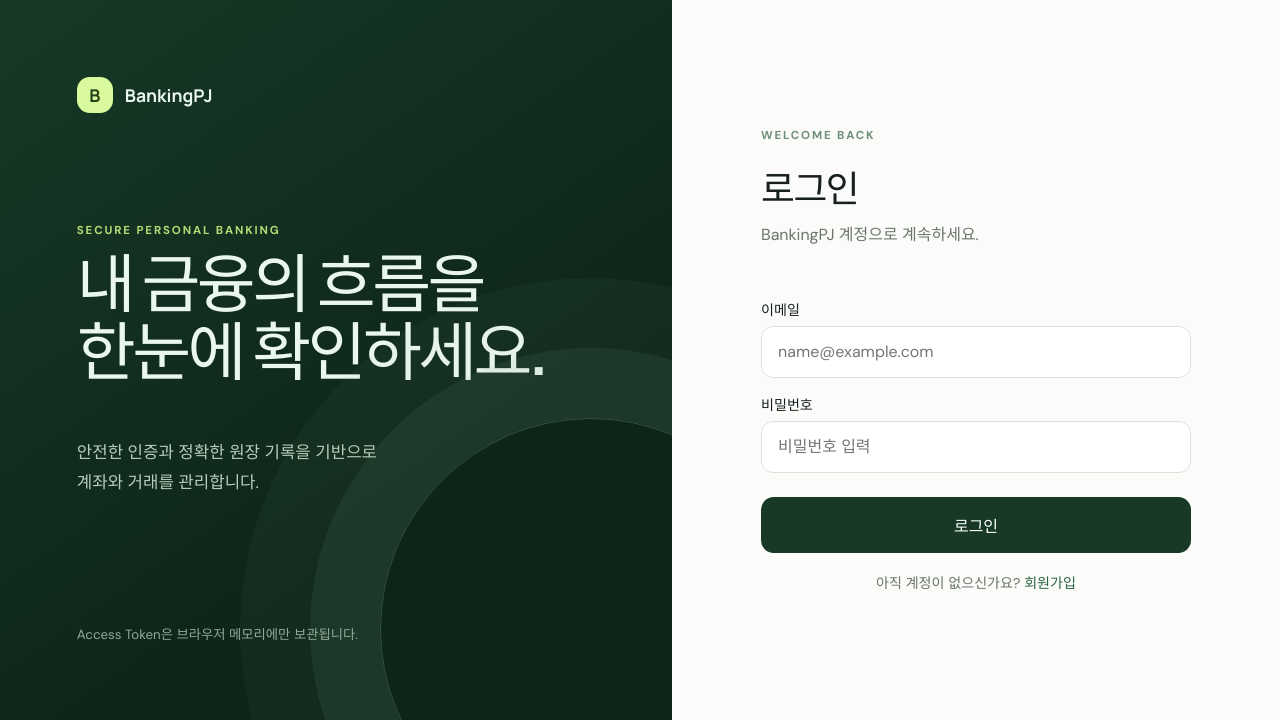
Test: Frontend 로그인 및 인증 흐름 › 로그인 성공 시 Access Token을 메모리에 저장하고 Dashboard로 이동한다
This screenshot has width=1280, height=720.
Expected: the heading "로그인" is shown, 761,162 -> 858,212
Type "user@example.com" into the field labelled "이메일" at (976, 352), box 761,326 -> 1191,378
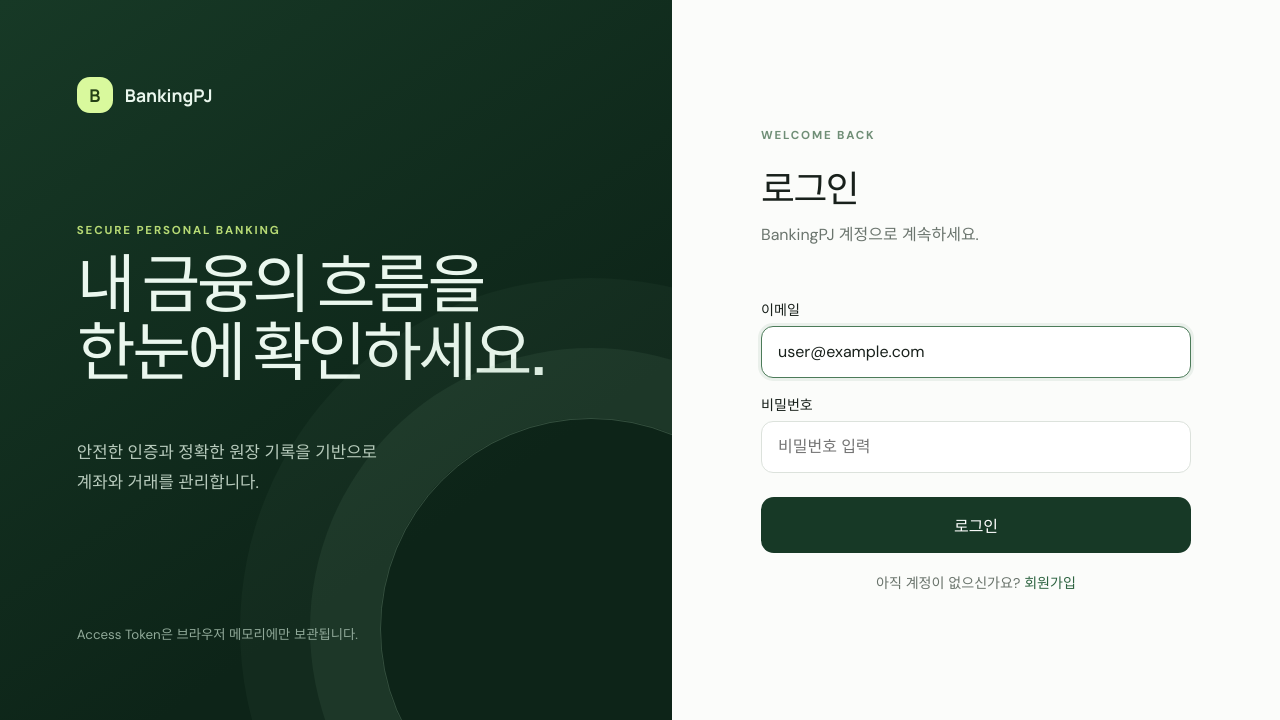
Type "password123!" into the password field labelled "비밀번호" at (976, 447), box 761,421 -> 1191,473
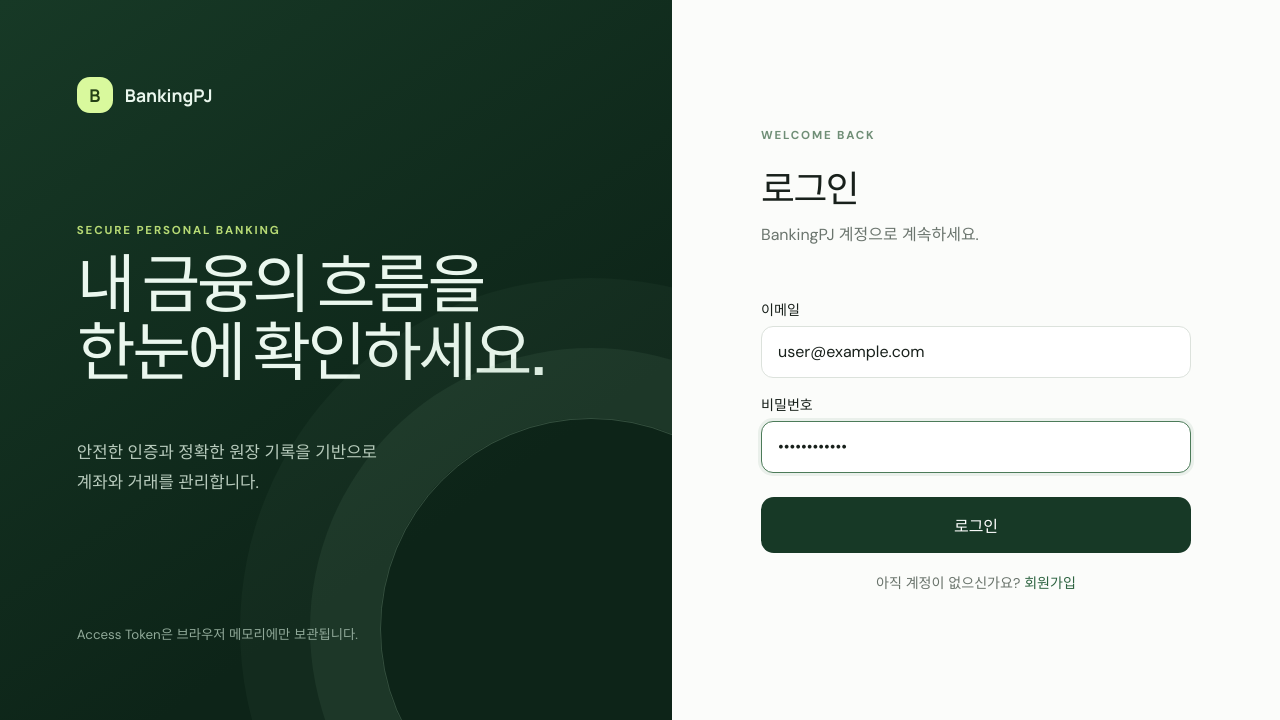
Click the button "로그인" at (976, 525), box 761,497 -> 1191,553
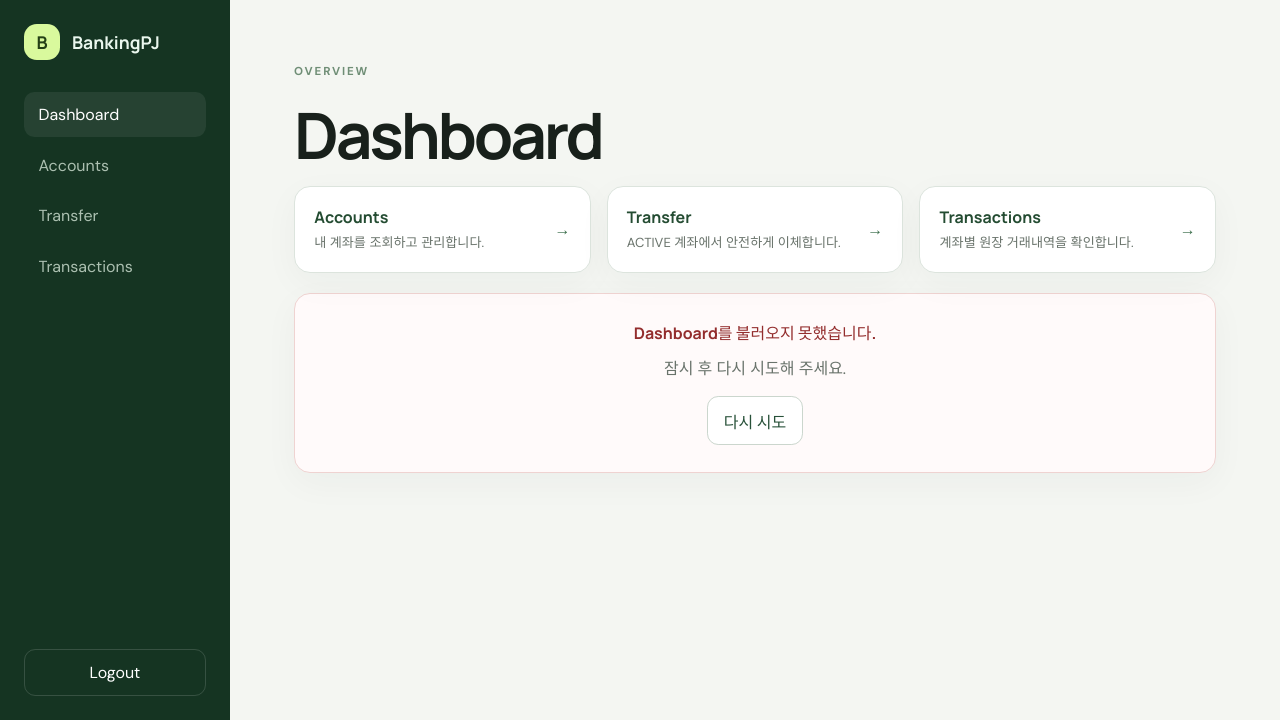
Expected: the heading "Dashboard" is shown, 294,90 -> 602,178
